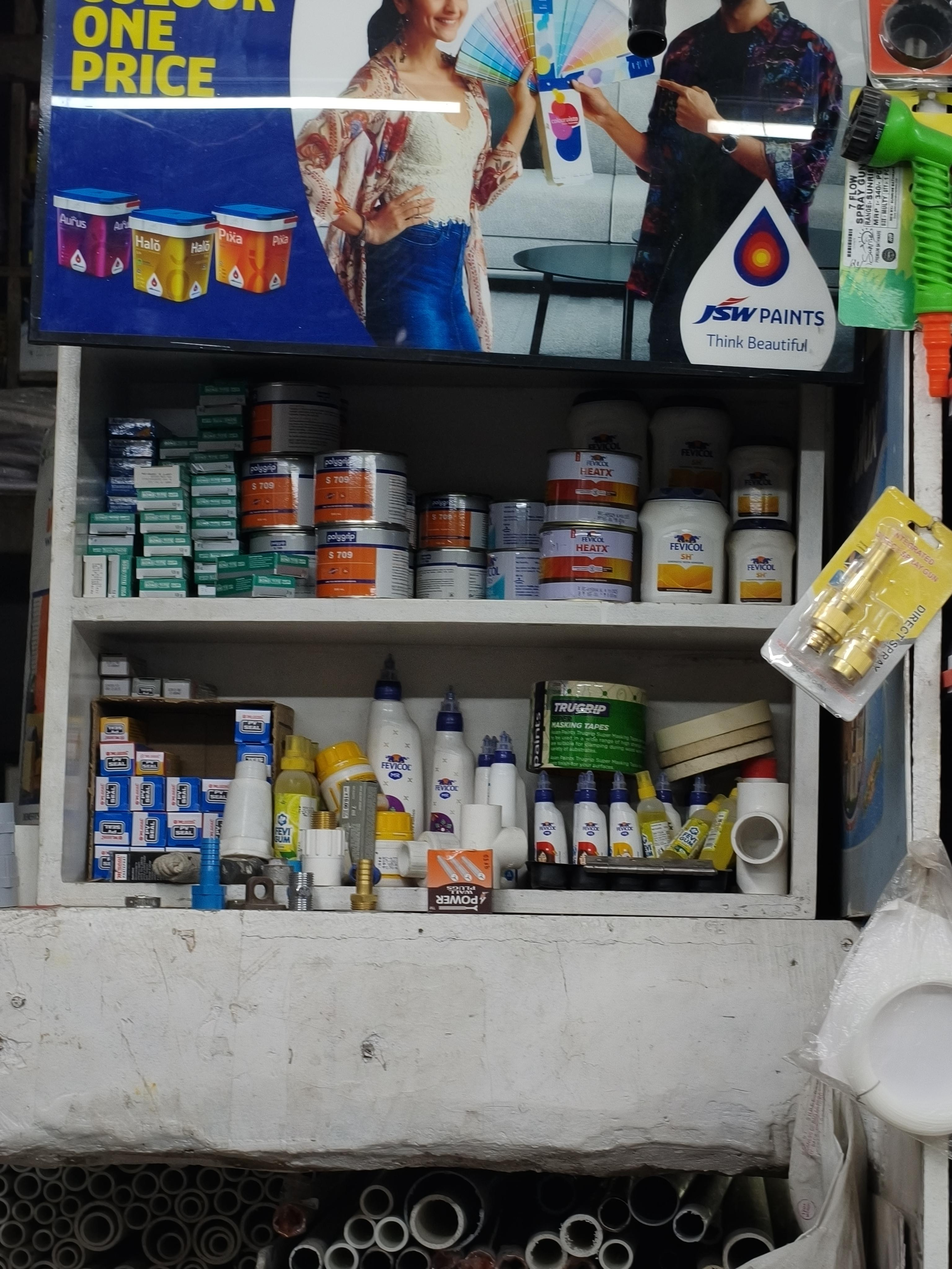Araldite_STANDARD: (107, 415, 156, 438), (108, 438, 155, 457), (109, 459, 153, 477), (108, 476, 136, 497), (109, 496, 137, 511)
BONDTITE_FAST - CLEAR: (217, 555, 309, 579), (217, 576, 296, 598), (91, 510, 138, 536), (135, 466, 189, 488), (108, 554, 133, 598), (194, 539, 241, 562), (139, 512, 187, 534), (142, 535, 191, 556), (136, 489, 184, 510), (137, 558, 185, 579), (197, 431, 246, 451), (190, 454, 236, 475), (198, 407, 245, 427), (191, 477, 237, 497), (192, 499, 238, 518), (140, 580, 188, 598), (200, 384, 245, 403), (193, 521, 238, 540), (88, 537, 134, 555), (161, 442, 189, 463), (193, 563, 217, 583), (198, 585, 215, 601)
Fevicol_HEATX: (540, 448, 639, 531), (541, 534, 634, 600)
Fevicol_SH: (646, 489, 724, 607), (651, 398, 728, 488), (728, 431, 795, 519), (729, 520, 795, 604), (572, 384, 644, 450)
Fevicol_SR 505: (485, 549, 540, 600), (487, 497, 540, 549)
PV-Seal_CPVC SOLVENT CEMENT: (99, 716, 132, 741), (137, 751, 166, 773)
PV-Seal_UPVC SOLVENT CEMENT: (91, 774, 133, 813), (133, 774, 166, 815), (167, 772, 201, 811), (91, 817, 135, 846), (168, 813, 201, 850), (137, 813, 167, 851), (236, 712, 270, 744), (100, 747, 135, 774), (202, 774, 225, 812), (203, 808, 225, 839), (94, 849, 112, 877)
Roff_T01 NCA New Construction Tile Adhesive: (87, 513, 136, 541)
Trugrip_tapes: (526, 677, 648, 768), (654, 698, 775, 780)
fevigum: (274, 735, 313, 860), (660, 794, 728, 861), (699, 786, 737, 872), (636, 770, 673, 857)
polygrip: (312, 450, 407, 529), (315, 526, 416, 599), (241, 455, 315, 532), (248, 405, 346, 455), (418, 492, 488, 551), (416, 548, 486, 601)
poster: (37, 0, 880, 360)
